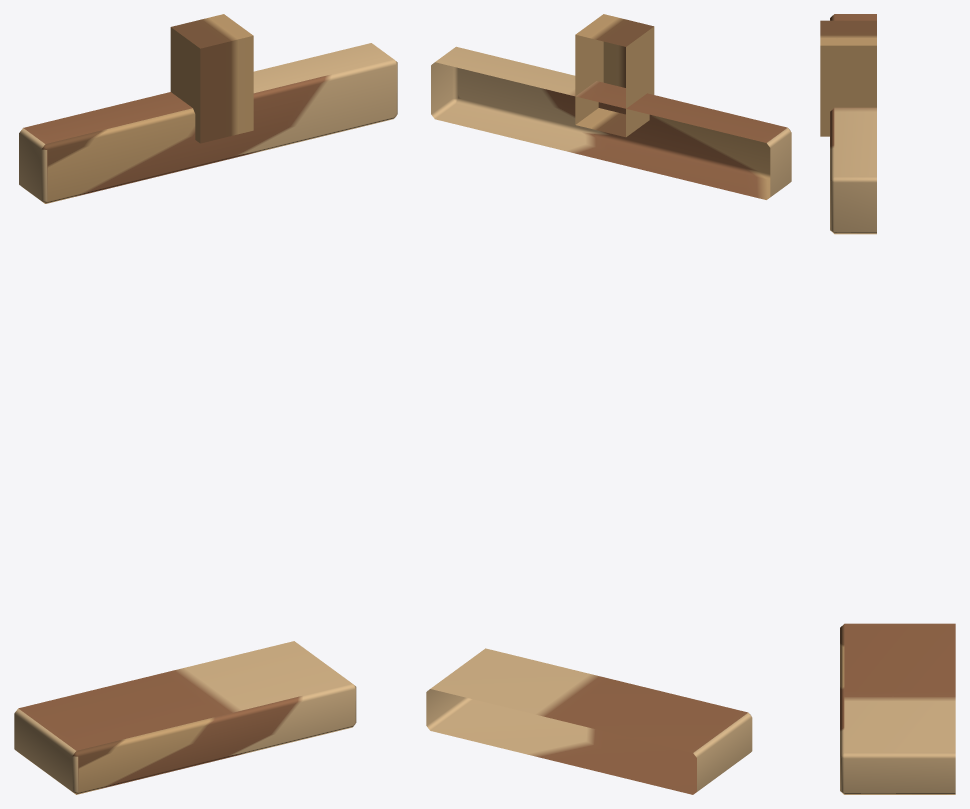
File: DBK_WinSmall_Trim_D_Full.fbx
3 renders of one model, left to right at view 1: azimuth 30°, elevation 25°; view 2: azimuth 150°, elevation 25°; view 3: azimuth 270°, elevation 25°, orthographic. The views are drawn at different scales.
Parts seen in each view (by area): view 1: DBK_WinSmall_Trim_D_Full; view 2: DBK_WinSmall_Trim_D_Full; view 3: DBK_WinSmall_Trim_D_Full.
Boxes of the visible parts, box(x1,y1,x2,y2) form: DBK_WinSmall_Trim_D_Full: box(14, 14, 397, 794); DBK_WinSmall_Trim_D_Full: box(426, 14, 791, 794); DBK_WinSmall_Trim_D_Full: box(820, 14, 955, 794).
Size of the model in its own units: 80 by 156 by 27.49.
